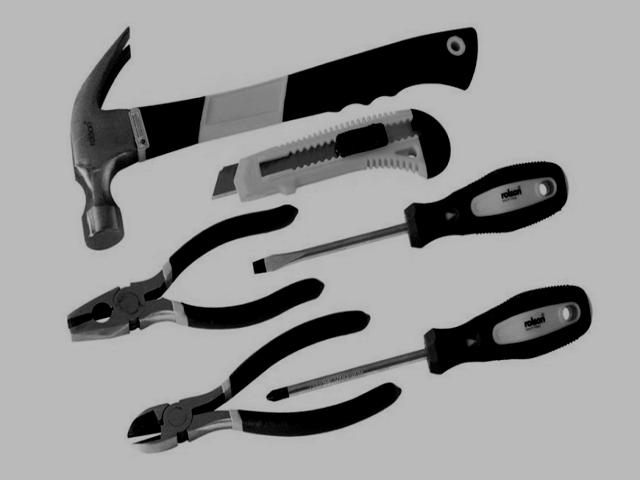Cutting pliers: (128, 311, 400, 452)
Hammer: (71, 28, 476, 249)
Pliers: (68, 205, 324, 340)
Screwdriver: (268, 286, 591, 400), (254, 162, 568, 273)
Utility knife: (214, 109, 450, 201)
